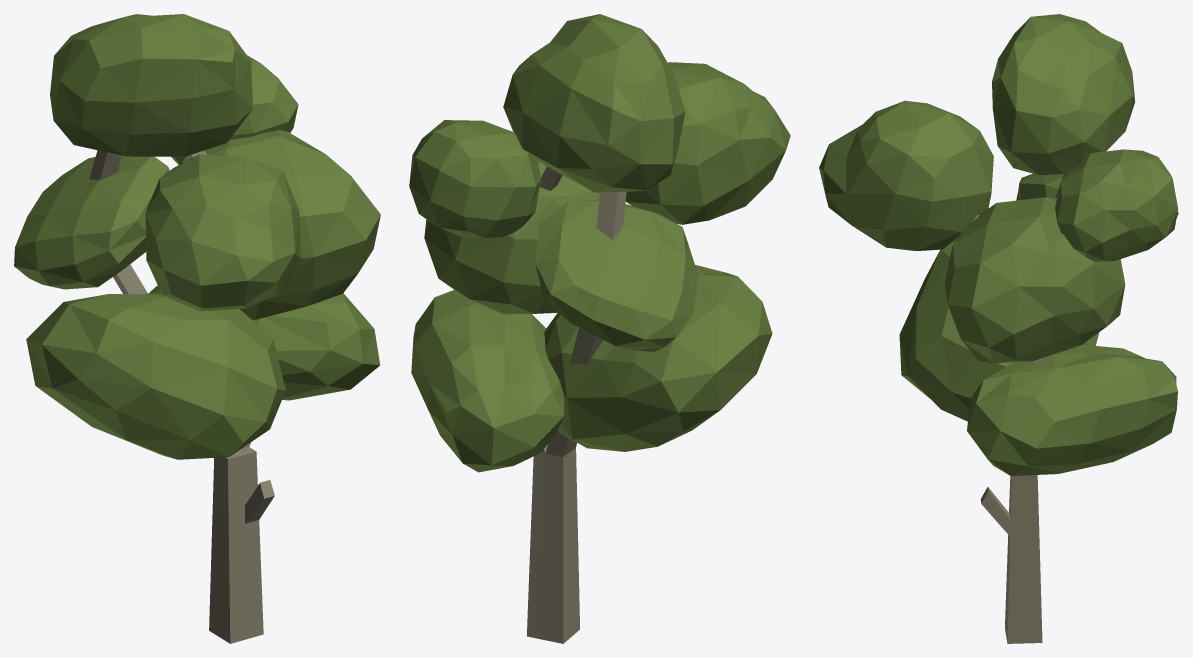
The model's file is tree1.fbx.
3 views of the same model, side by side, from view 1: azimuth 30°, elevation 25°; view 2: azimuth 150°, elevation 25°; view 3: azimuth 270°, elevation 25° (orthographic). The views are drawn at different scales.
Parts seen in each view (by area): view 1: polySurface14, polySurface10, polySurface12, polySurface13, polySurface16, polySurface11, polySurface15, polySurface17; view 2: polySurface10, polySurface14, polySurface15, polySurface13, polySurface12, polySurface17, polySurface11, polySurface16; view 3: polySurface16, polySurface15, polySurface12, polySurface10, polySurface17, polySurface14, polySurface11, polySurface13.
Part boxes in pixels (x1=…): polySurface14: x1=26, y1=292, x2=285, y2=459; polySurface10: x1=50, y1=14, x2=252, y2=156; polySurface12: x1=145, y1=154, x2=300, y2=311; polySurface13: x1=14, y1=156, x2=169, y2=289; polySurface16: x1=181, y1=130, x2=380, y2=319; polySurface11: x1=89, y1=150, x2=274, y2=643; polySurface15: x1=148, y1=285, x2=380, y2=400; polySurface17: x1=171, y1=55, x2=298, y2=164; polySurface10: x1=503, y1=14, x2=685, y2=192; polySurface14: x1=544, y1=265, x2=772, y2=451; polySurface15: x1=411, y1=290, x2=564, y2=472; polySurface13: x1=535, y1=200, x2=698, y2=351; polySurface12: x1=625, y1=62, x2=790, y2=224; polySurface17: x1=409, y1=120, x2=540, y2=237; polySurface11: x1=527, y1=166, x2=626, y2=643; polySurface16: x1=424, y1=160, x2=599, y2=313; polySurface16: x1=944, y1=197, x2=1125, y2=363; polySurface15: x1=967, y1=345, x2=1177, y2=475; polySurface12: x1=819, y1=100, x2=993, y2=250; polySurface10: x1=992, y1=14, x2=1135, y2=175; polySurface17: x1=1055, y1=149, x2=1177, y2=261; polySurface14: x1=899, y1=238, x2=1099, y2=421; polySurface11: x1=972, y1=173, x2=1067, y2=643; polySurface13: x1=1016, y1=173, x2=1178, y2=218.
Bounding box in the file's own units: 26.63 × 48.04 × 27.1.
